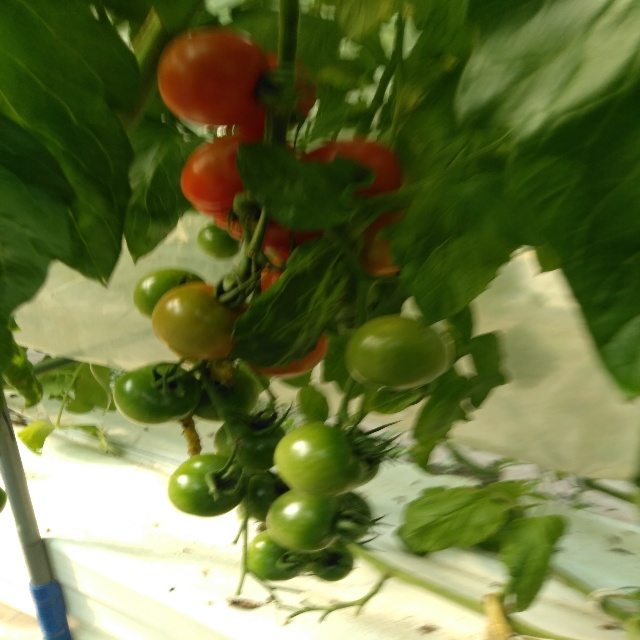l_fully_ripened: (157, 32, 275, 127), (181, 132, 292, 215), (299, 141, 403, 197)
l_green: (274, 423, 379, 498), (345, 315, 449, 389), (113, 363, 203, 427), (167, 454, 251, 517), (266, 489, 343, 553), (214, 415, 287, 472), (192, 363, 259, 423), (133, 269, 208, 319), (246, 529, 308, 581), (245, 473, 290, 524), (337, 491, 373, 545), (309, 544, 353, 583), (198, 222, 242, 260)
l_half_ripened: (150, 281, 249, 364)
